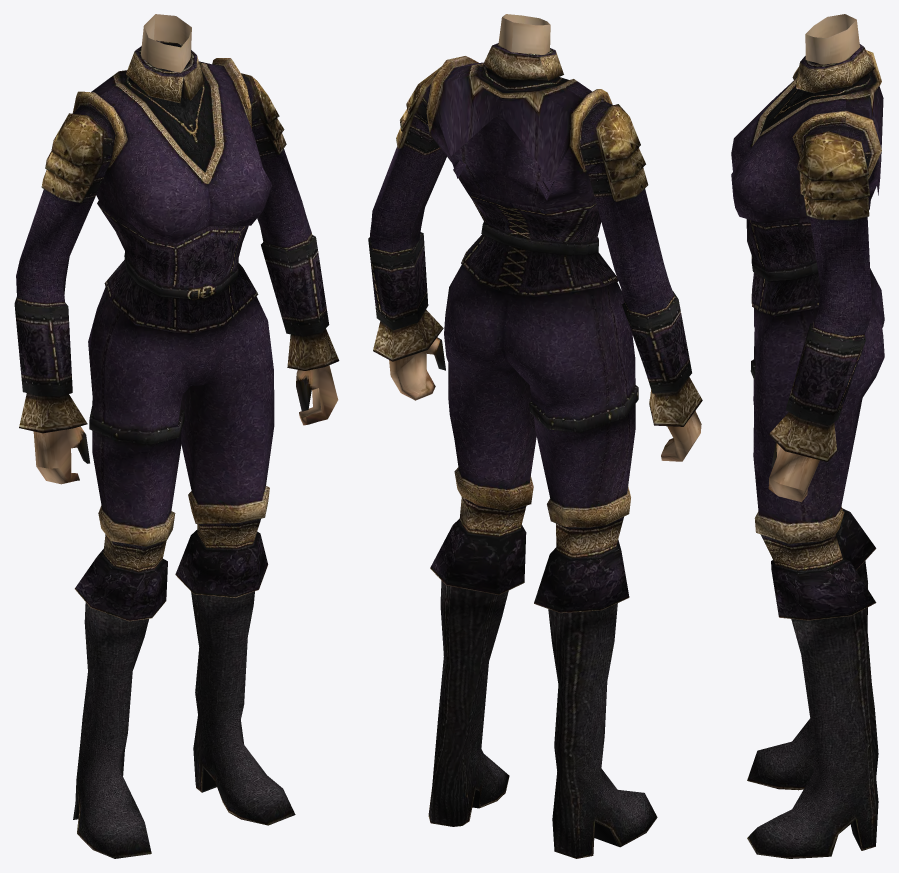
Rendered from ARMOR_GS_FIOLKOWYJAKIS_01.glb.
3 views of the same model, side by side, from view 1: azimuth 30°, elevation 25°; view 2: azimuth 150°, elevation 25°; view 3: azimuth 270°, elevation 25° (orthographic). The views are drawn at different scales.
Visible parts, largest first — view 1: ARMOR_GS_FIOLKOWYJAKIS_01; view 2: ARMOR_GS_FIOLKOWYJAKIS_01; view 3: ARMOR_GS_FIOLKOWYJAKIS_01.
Boxes of the visible parts, x1,y1,x2,y2 form: ARMOR_GS_FIOLKOWYJAKIS_01: (14,14,339,858); ARMOR_GS_FIOLKOWYJAKIS_01: (368,14,702,858); ARMOR_GS_FIOLKOWYJAKIS_01: (731,14,884,858).
Size of the model in its own units: 0.6694 by 1.67 by 0.2931.
Materials: 2 (2 with a texture image).
